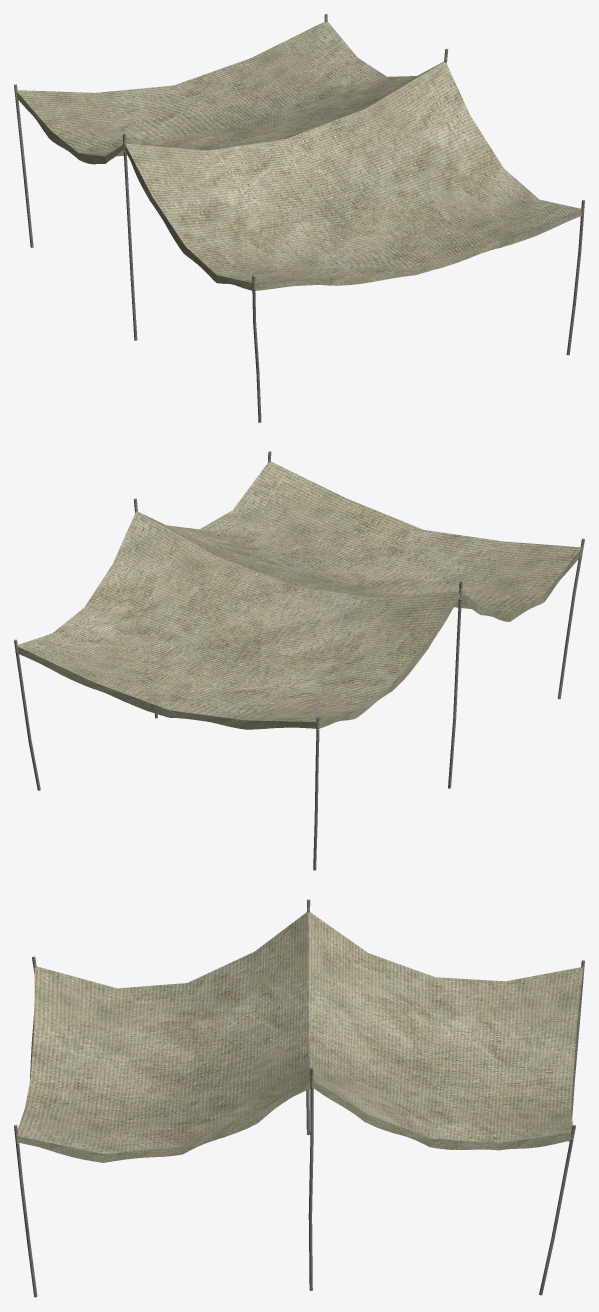
Rendered from poi_corl_tent_med_l0.fbx.
3 renders of one model, top to bottom at view 1: azimuth 30°, elevation 25°; view 2: azimuth 150°, elevation 25°; view 3: azimuth 270°, elevation 25°, orthographic. The views are drawn at different scales.
Parts seen in each view (by area): view 1: mesh_node; view 2: mesh_node; view 3: mesh_node.
Boxes of the visible parts, x1=… form: mesh_node: x1=14, y1=14, x2=584, y2=422; mesh_node: x1=14, y1=451, x2=584, y2=870; mesh_node: x1=14, y1=899, x2=584, y2=1297.
Bounding box in the file's own units: 6.55 × 4.08 × 9.03.
